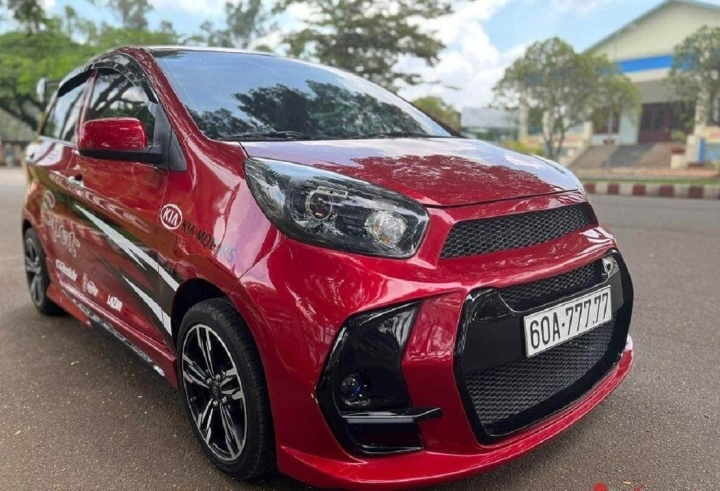number_plate: (523, 290, 619, 354)
